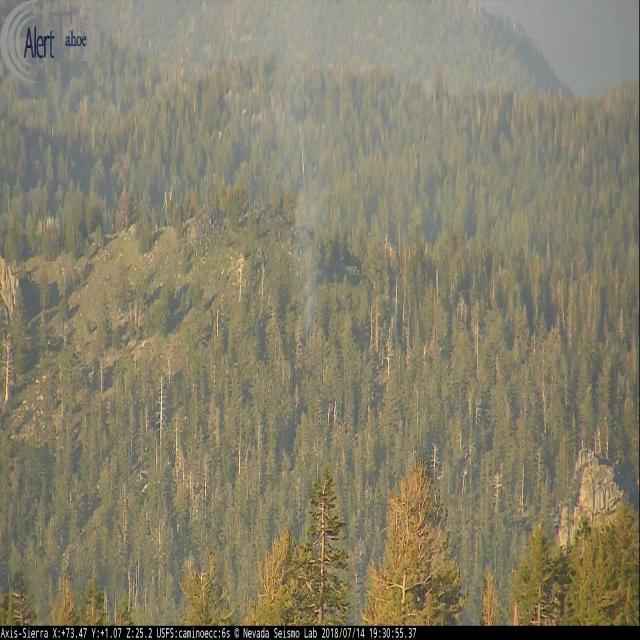smoke: (255, 68, 347, 331)
